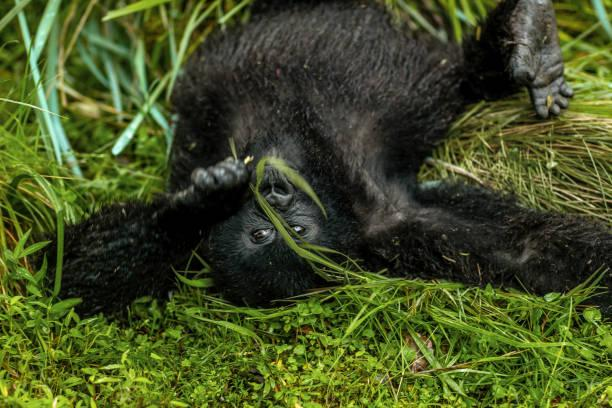goriile_montagne: (39, 0, 590, 325)
